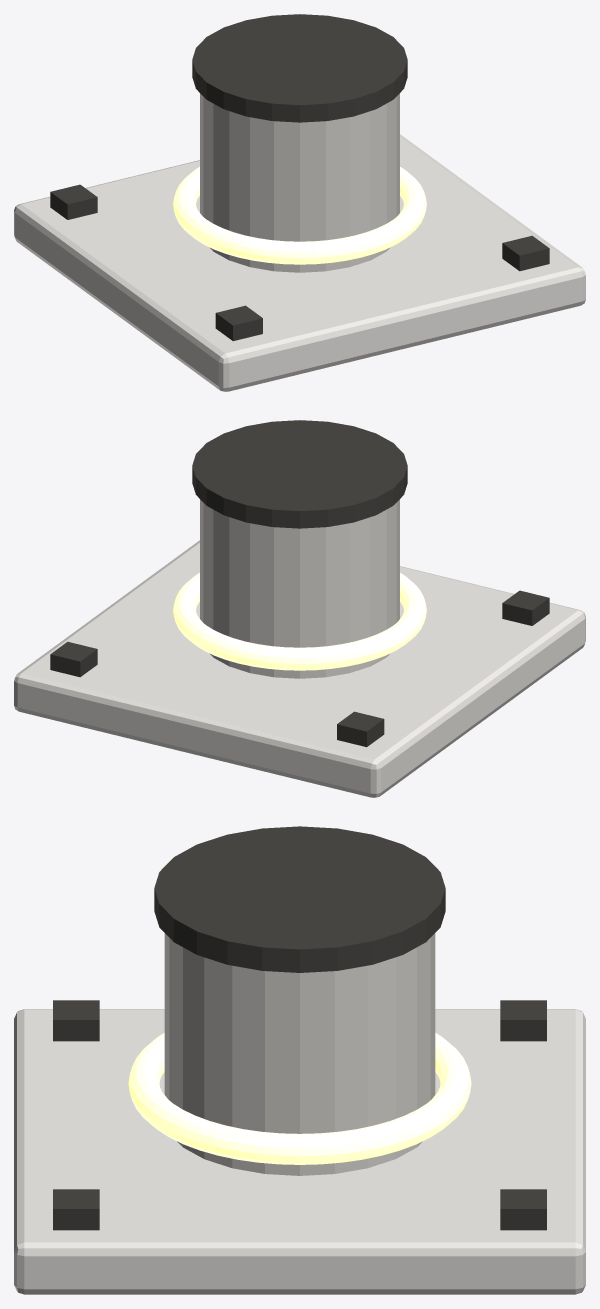
File: topo_comp_power.glb
3 views of the same model, one above another, from view 1: azimuth 30°, elevation 25°; view 2: azimuth 150°, elevation 25°; view 3: azimuth 270°, elevation 25° (orthographic). The views are drawn at different scales.
Parts seen in each view (by area): view 1: TOPO_COMP_POWER; view 2: TOPO_COMP_POWER; view 3: TOPO_COMP_POWER.
Boxes of the visible parts, x1,y1,x2,y2 form: TOPO_COMP_POWER: [14, 14, 585, 391]; TOPO_COMP_POWER: [14, 420, 585, 797]; TOPO_COMP_POWER: [14, 826, 585, 1294].
Bounding box in the file's own units: 0.22 × 0.123 × 0.22.
